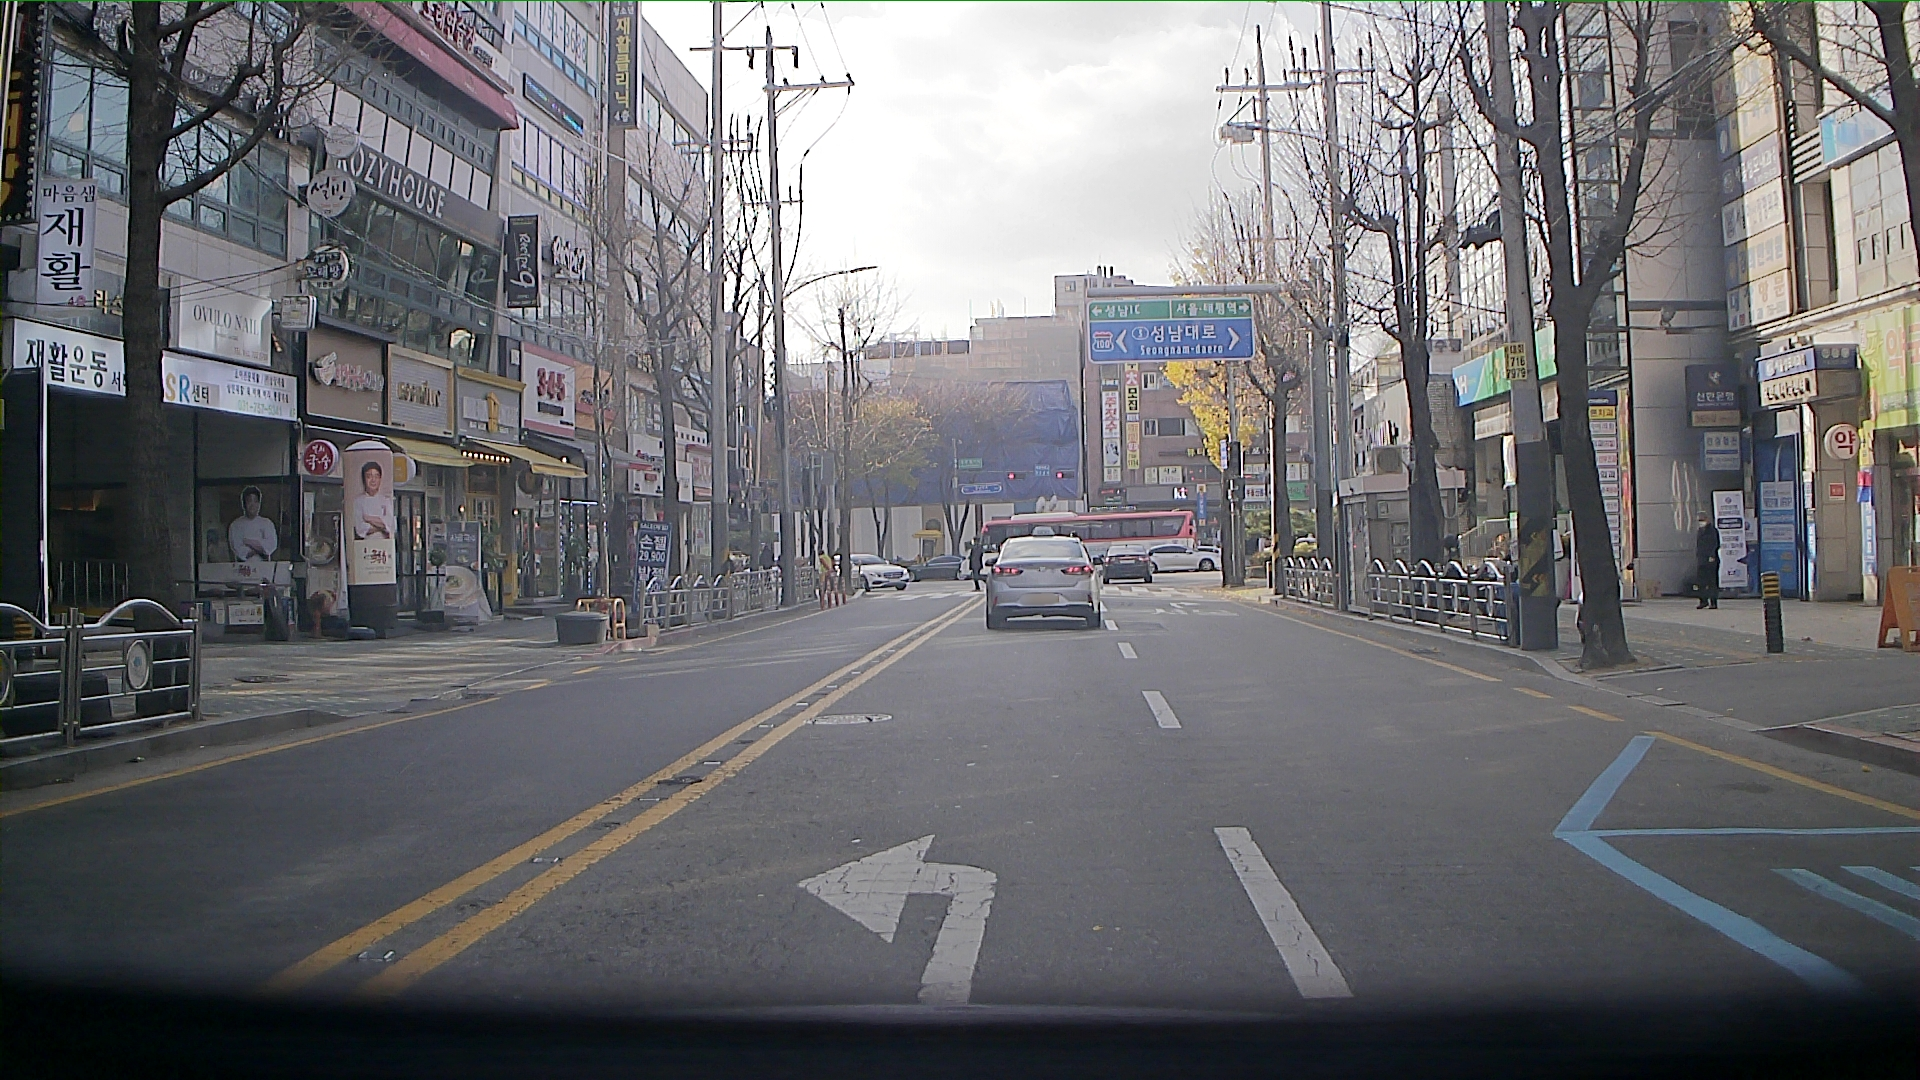trafficLight: (1009, 468, 1083, 481)
